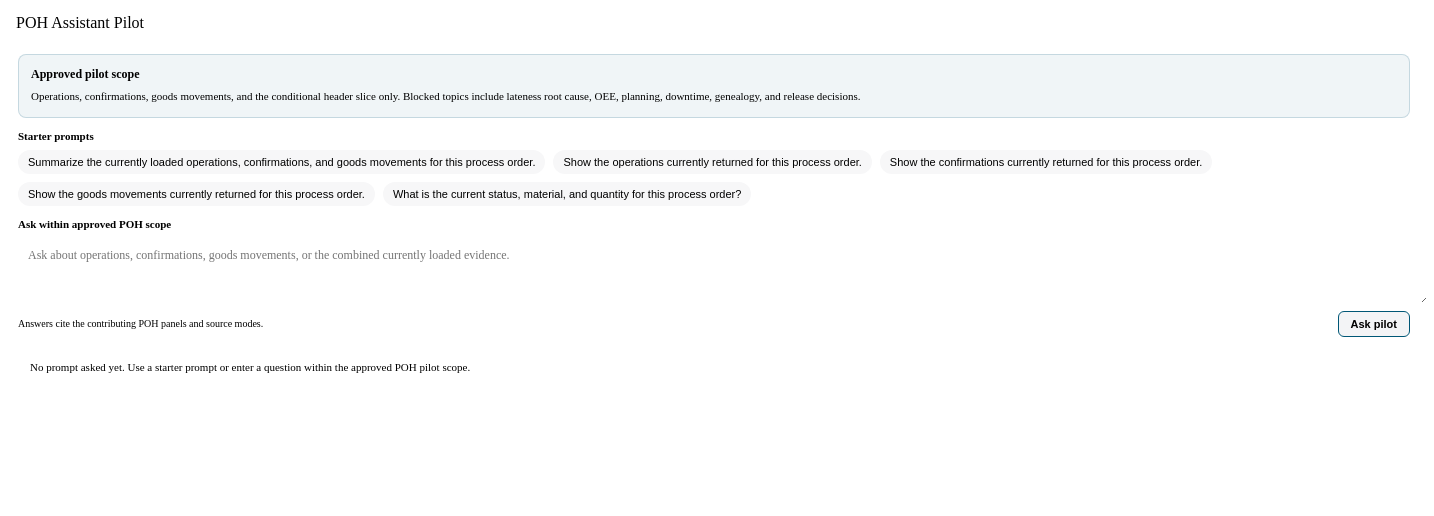
Test case: PohGeniePilotPanel › refuses blocked questions entered manually
This screenshot has width=1434, height=516.
Step 1. Replace the text in the text box labelled "Ask within approved POH scope" with "Why is this order late?" → (724, 270), box [18,238,1430,302]
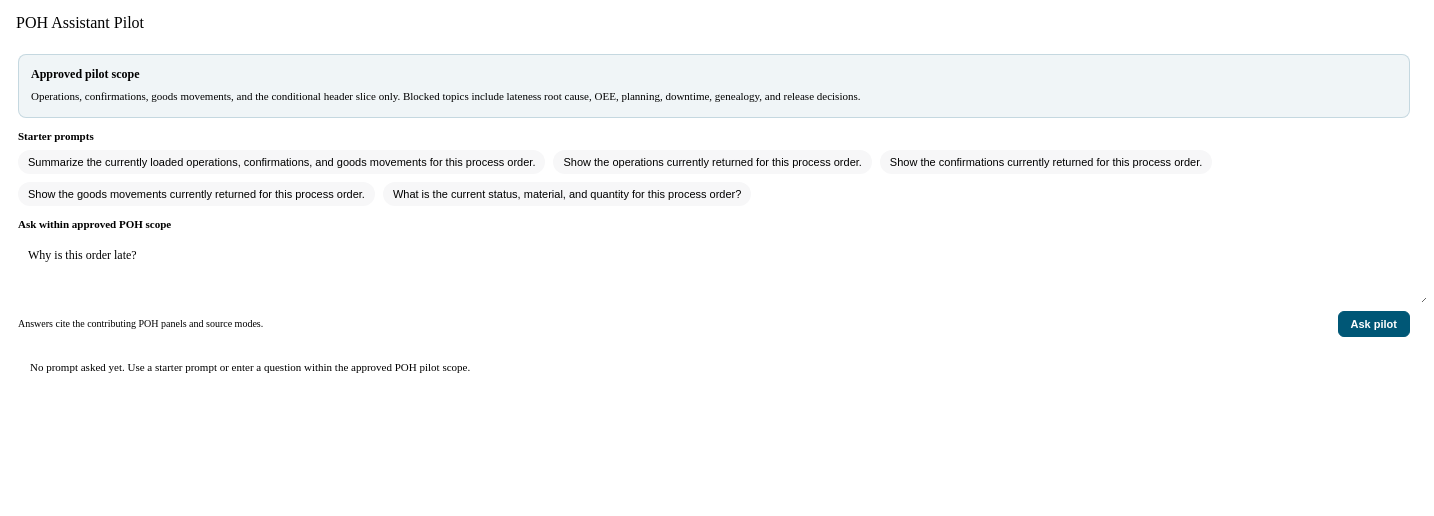
Step 2. Click the button "Ask pilot" → (1374, 324), box [1338,310,1410,336]
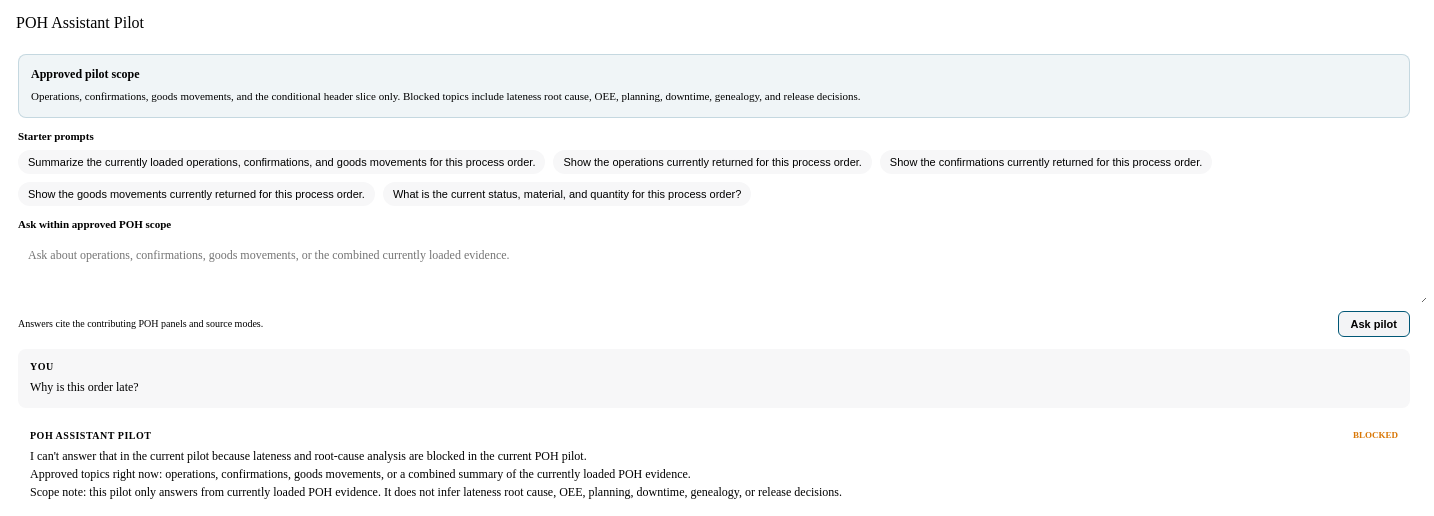
Now the text "can't answer that in the current pilot" is shown, box [30,448,842,498]
